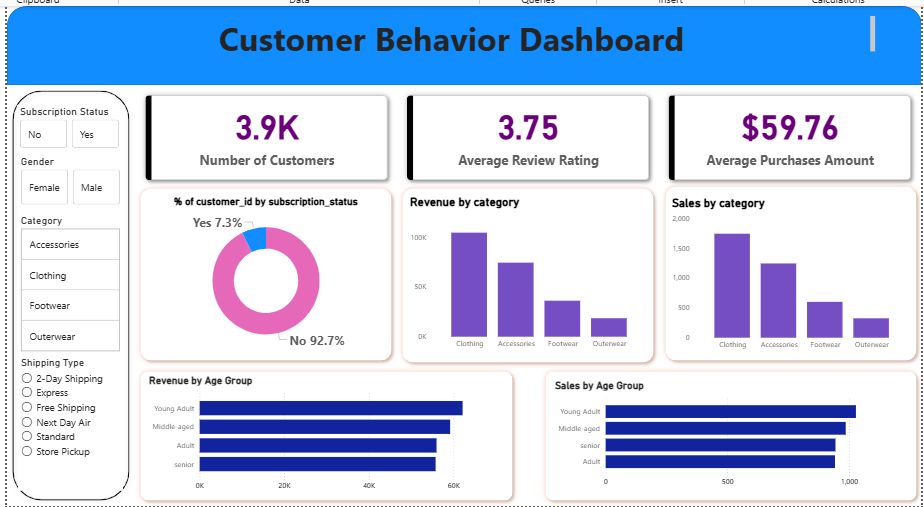

What the dashboard file says about the page in this screenshot:
{"tool":"powerbi","page":{"name":"Page 1","canvas":[1500,820],"ordinal":0},"visuals":[{"type":"cardVisual","fields":{"Data":["customer_behavior customer.Number of Customers","customer_behavior customer.Average Review Rating","customer_behavior customer.Average Purchases Amount"]},"box":[209.9,129.6,1290.7,173.8],"z":0},{"type":"shape","box":[0,0,1500.6,129.6],"z":1000},{"type":"shape","box":[209.9,290.3,429.7,300.1],"z":2000},{"type":"donutChart","title":"% of customer_id by subscription_status","fields":{"Category":["customer_behavior customer.subscription_status"],"Y":["Sum(customer_behavior customer.customer_id)"]},"box":[228,310,393.6,262.4],"z":3000},{"type":"textbox","box":[37.7,11.5,1390.7,73.8],"z":4000},{"type":"shape","box":[639.6,290.3,429.7,303.4],"z":5000},{"type":"shape","box":[1070.9,287,429.7,303.4],"z":6000},{"type":"clusteredColumnChart","title":"Revenue by category","fields":{"Y":["Sum(customer_behavior customer.purchase_amount)"],"Category":["customer_behavior customer.category"]},"box":[656,310,398.5,262.4],"z":7000},{"type":"clusteredColumnChart","title":"Sales by category","fields":{"Y":["CountNonNull(customer_behavior customer.customer_id)"],"Category":["customer_behavior customer.category"]},"box":[1085.7,311.6,398.5,262.4],"z":8000},{"type":"shape","box":[0,129.6,209.9,690.4],"z":9000},{"type":"advancedSlicerVisual","title":"Subscription Status","fields":{"Values":["customer_behavior customer.subscription_status"]},"box":[16.4,162.4,172.2,75.4],"z":10000},{"type":"advancedSlicerVisual","title":"Gender","fields":{"Values":["customer_behavior customer.gender"]},"box":[18,244.4,172.2,86.9],"z":11000},{"type":"advancedSlicerVisual","title":"Category","fields":{"Values":["customer_behavior customer.category"]},"box":[18,341.1,172.2,231.2],"z":12000},{"type":"listSlicer","title":"Shipping Type","fields":{"Values":["customer_behavior customer.shipping_type"]},"box":[18,574,172.2,221.4],"z":13000},{"type":"shape","box":[209.9,590.4,628.1,229.6],"z":15000},{"type":"clusteredBarChart","title":"Revenue by Age Group","fields":{"Y":["Sum(customer_behavior customer.purchase_amount)"],"Category":["customer_behavior customer.age_group"]},"box":[228,603.5,588.8,201.7],"z":16000},{"type":"shape","box":[874.1,590.4,626.5,229.6],"z":17000},{"type":"clusteredBarChart","title":"Sales by Age Group","fields":{"Category":["customer_behavior customer.age_group"],"Y":["CountNonNull(customer_behavior customer.customer_id)"]},"box":[893.8,611.7,587.1,187],"z":17001}]}

Visuals, with their boxes on the page's 1500x820 design canvas (x1, y1, x2, y2). These are canvas units, not pixel positions in the 924x507 screenshot, which may show the page scaled, cropped or inside an application window:
cardVisual - customer_behavior customer.Number of Customers x customer_behavior customer.Average Review Rating: crop(210, 130, 1501, 303)
shape: crop(0, 0, 1501, 130)
shape: crop(210, 290, 640, 590)
"% of customer_id by subscription_status" donutChart: crop(228, 310, 622, 572)
textbox: crop(38, 12, 1428, 85)
shape: crop(640, 290, 1069, 594)
shape: crop(1071, 287, 1501, 590)
"Revenue by category" clusteredColumnChart: crop(656, 310, 1054, 572)
"Sales by category" clusteredColumnChart: crop(1086, 312, 1484, 574)
shape: crop(0, 130, 210, 820)
"Subscription Status" advancedSlicerVisual: crop(16, 162, 189, 238)
"Gender" advancedSlicerVisual: crop(18, 244, 190, 331)
"Category" advancedSlicerVisual: crop(18, 341, 190, 572)
"Shipping Type" listSlicer: crop(18, 574, 190, 795)
shape: crop(210, 590, 838, 820)
"Revenue by Age Group" clusteredBarChart: crop(228, 604, 817, 805)
shape: crop(874, 590, 1501, 820)
"Sales by Age Group" clusteredBarChart: crop(894, 612, 1481, 799)
